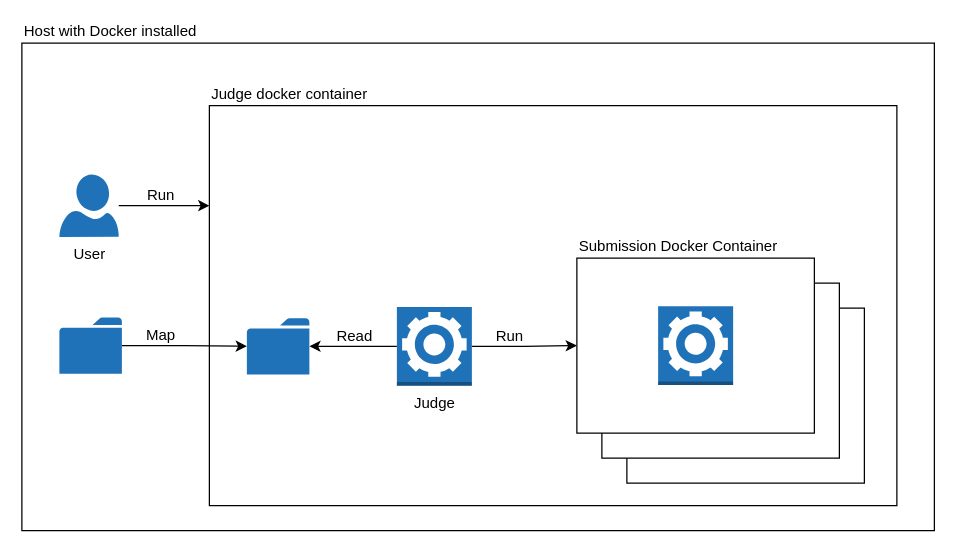
The diagram is 956 pixels wide and 553 high, and some of its shapes have lost their labels. Each missing label, with the centre of its shape:
"/app/assessments" belongs at [277,346].
"assessments" belongs at [90,345].
"Code submission" belongs at [695,345].
